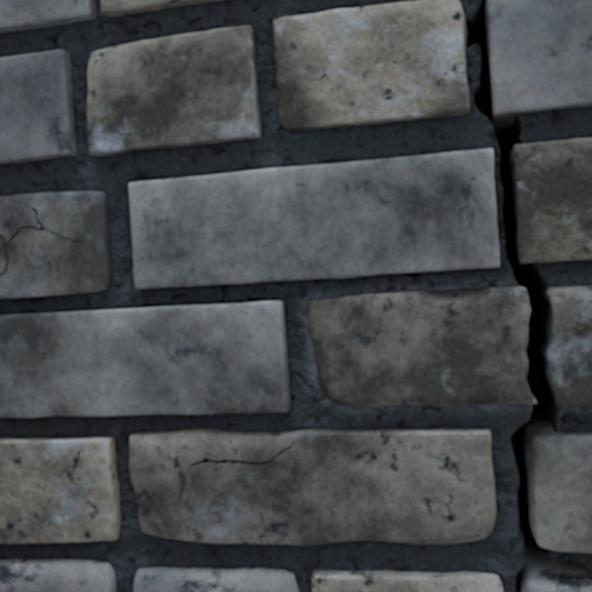brick: (129, 149, 499, 288), (130, 429, 495, 544), (0, 301, 289, 416), (274, 0, 469, 129), (87, 26, 260, 155), (0, 437, 119, 543), (0, 192, 112, 298), (487, 0, 591, 114), (514, 138, 591, 262), (0, 50, 75, 163), (530, 433, 591, 552), (312, 570, 502, 591), (134, 567, 298, 591), (0, 560, 115, 591), (0, 0, 95, 31), (101, 0, 218, 16), (525, 581, 591, 591), (0, 239, 5, 271)
broken_brick: (308, 285, 534, 407), (548, 284, 591, 408)
crack: (464, 0, 591, 591), (0, 206, 84, 277)
